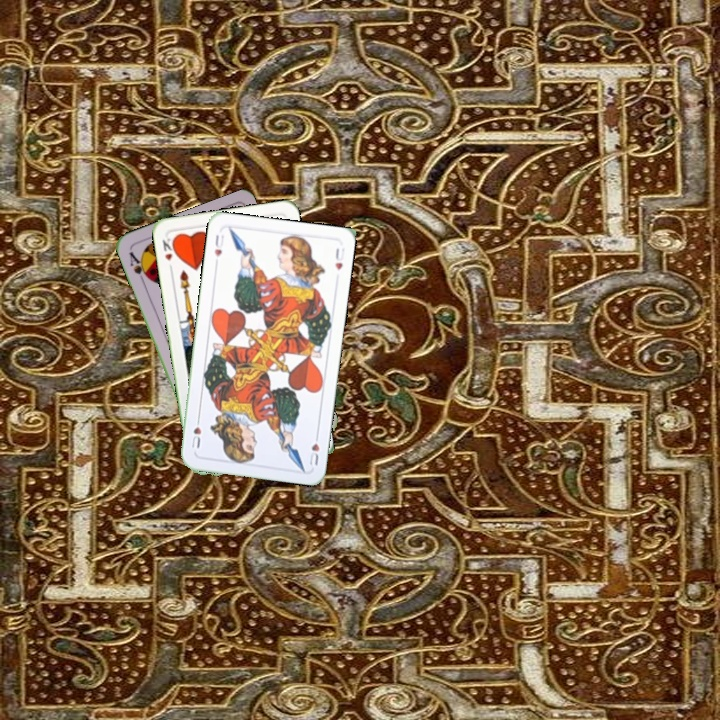HK: (158, 234, 179, 273)
HU: (305, 429, 322, 468), (211, 231, 227, 259)
SA: (125, 247, 152, 286)
